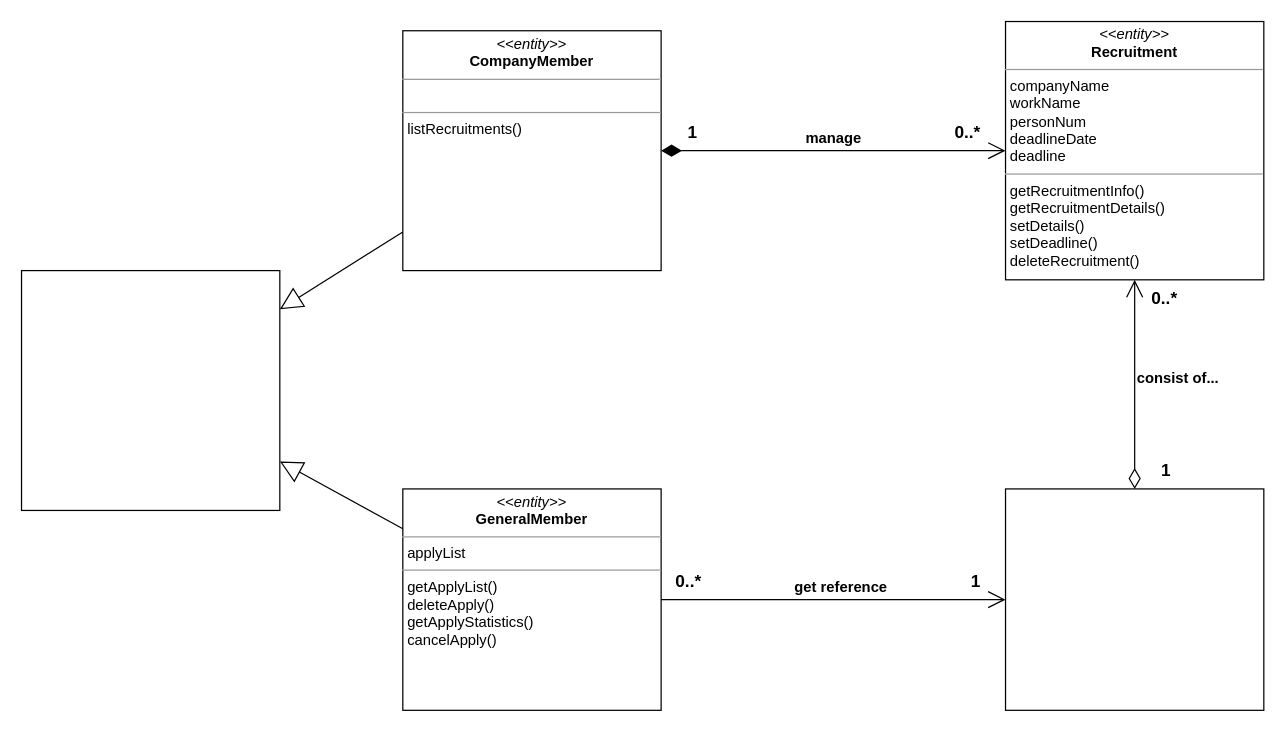
Some shapes in this 1285 by 732 pixel diagram are drawn without their labels. The box of each missing label's shape, as (x1, y1, x2, y2) in pixels:
<<entity>> Member: (20, 269, 280, 510)
<<entity>> Recruitments recruitmentsList getRecruitmentsList(): (1004, 488, 1264, 710)
